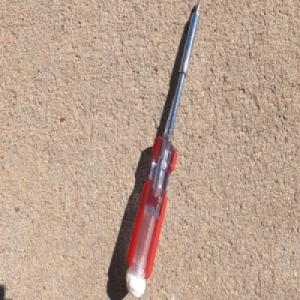Screwdriver: (123, 0, 200, 295)
